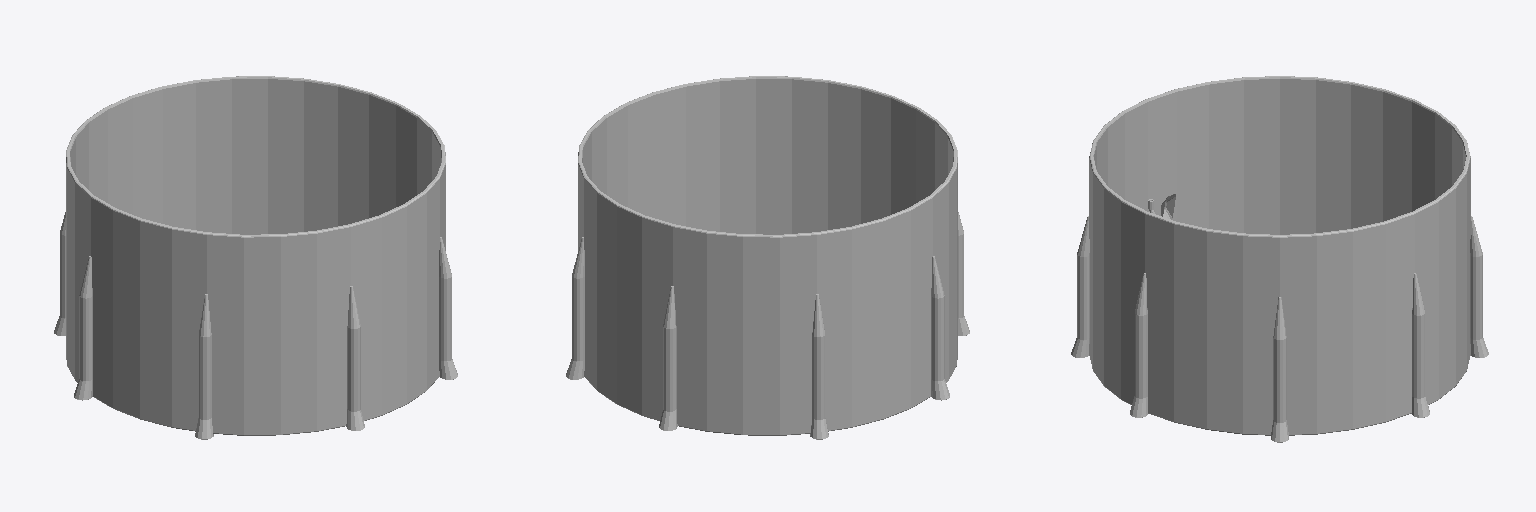
File: Saturn V_8.obj
The picture shows the model from 3 angles: view 1: azimuth 30°, elevation 25°; view 2: azimuth 150°, elevation 25°; view 3: azimuth 270°, elevation 25°; orthographic projection.
Visible parts, largest first — view 1: Second_Stage_Interstage_Cylinder.013, Cylinder.001_Cylinder.010; view 2: Second_Stage_Interstage_Cylinder.013, Cylinder.001_Cylinder.010; view 3: Second_Stage_Interstage_Cylinder.013, Cylinder.001_Cylinder.010.
Part boxes in pixels (x1,y1,x2,y2): Second_Stage_Interstage_Cylinder.013: (66, 76, 445, 435); Cylinder.001_Cylinder.010: (54, 212, 457, 439); Second_Stage_Interstage_Cylinder.013: (578, 76, 957, 435); Cylinder.001_Cylinder.010: (566, 212, 969, 439); Second_Stage_Interstage_Cylinder.013: (1089, 76, 1470, 435); Cylinder.001_Cylinder.010: (1071, 216, 1488, 442).
Bounding box in the file's own units: 11.08 × 5.84 × 11.08.